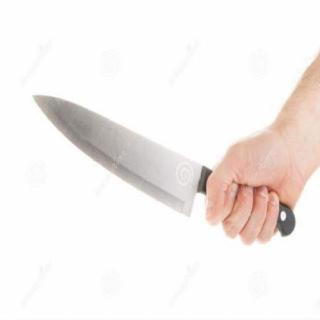knife: (27, 87, 271, 245)
